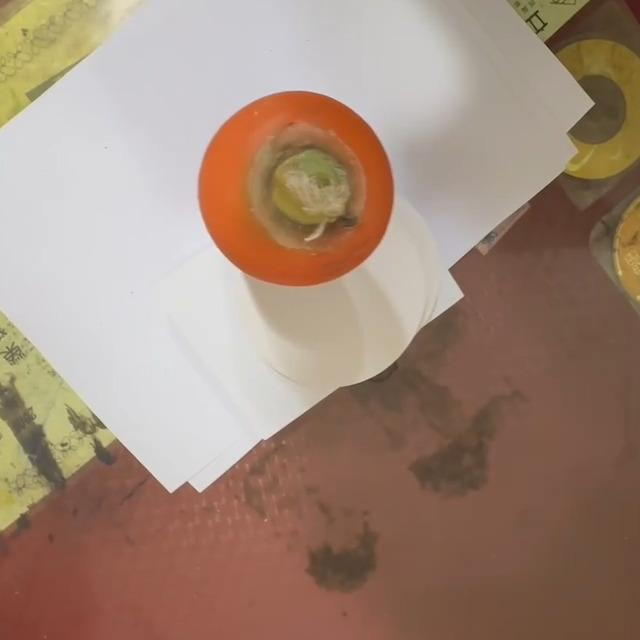carrot: (196, 90, 397, 289)
